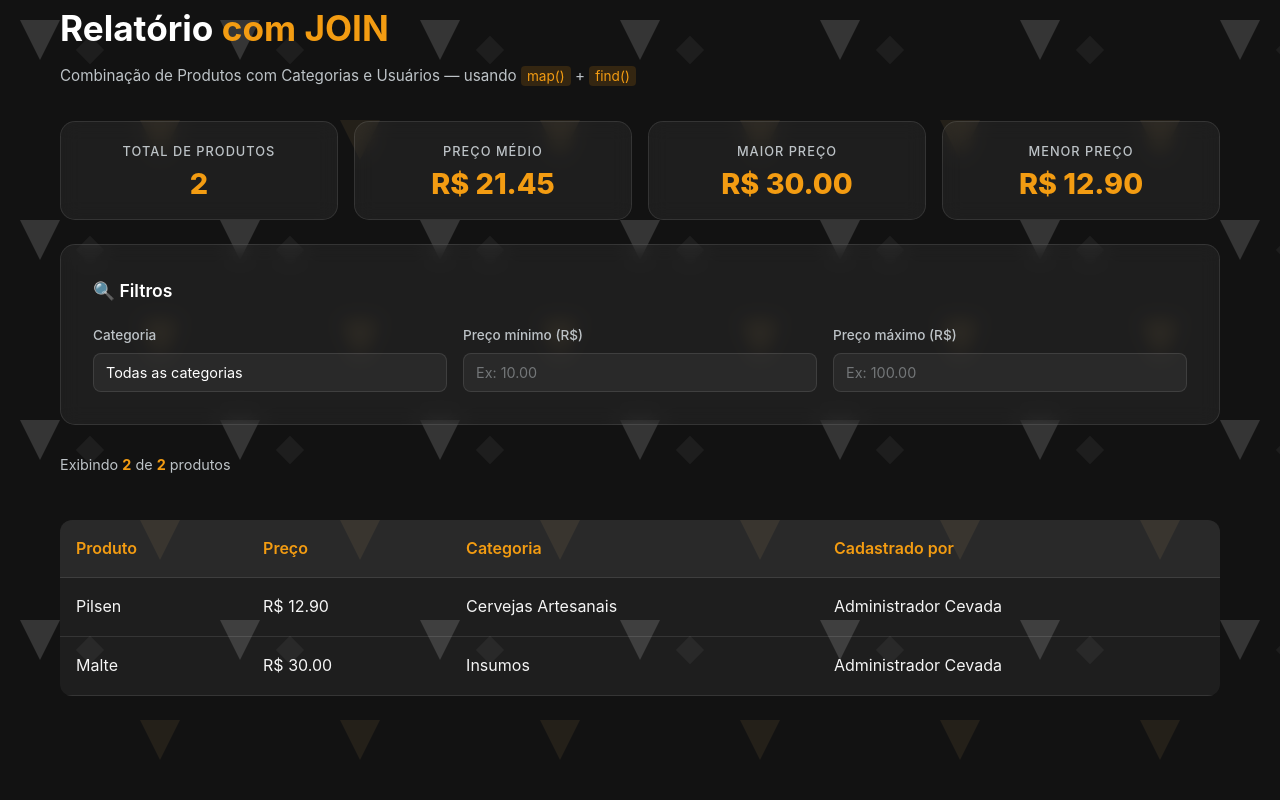
Test: tela do relatório mostra os produtos com o JOIN e filtra por categoria
Expected: the text "Pilsen" is shown, [60,578,247,636]
Expected: the text "Administrador Cevada" is shown 2 times, [818,578,1220,636]; [818,636,1220,695]
Select "Insumos" in the dropdown labelled "Categoria": (270, 372) [93,353,447,392]
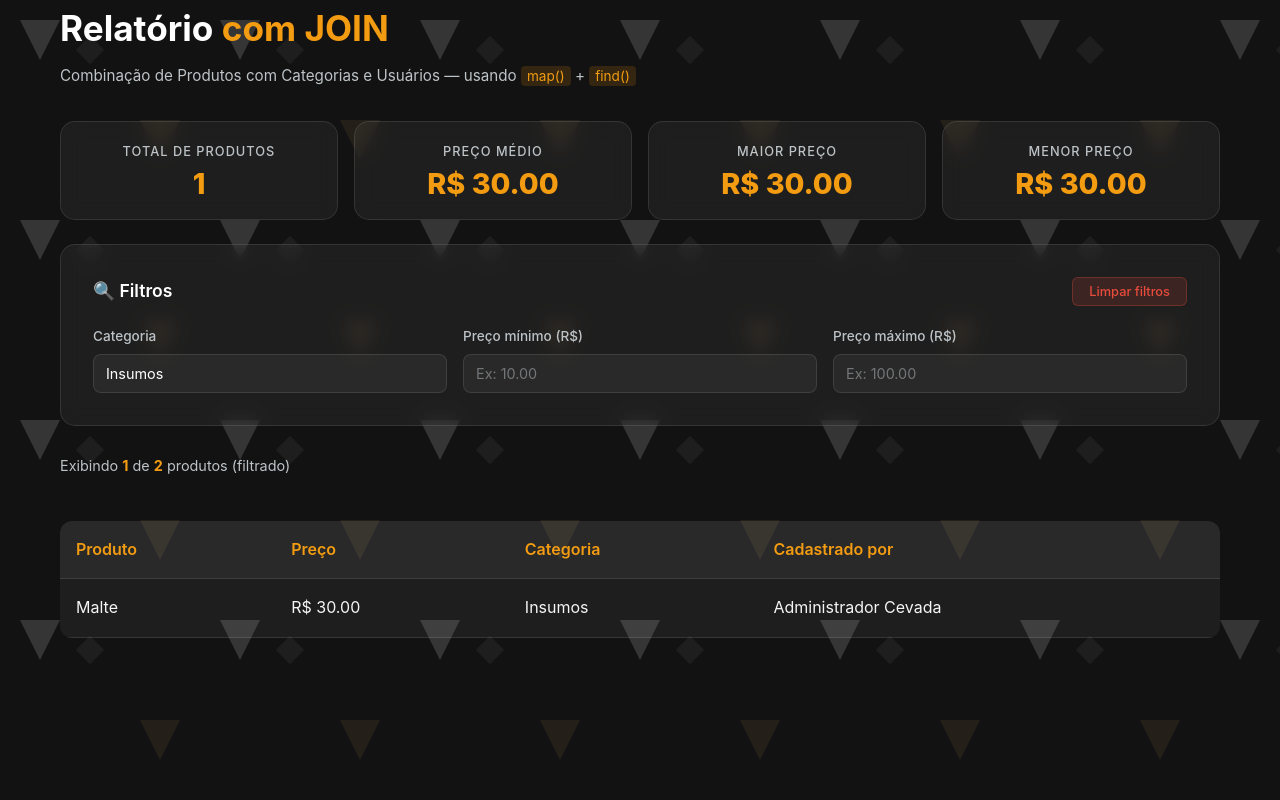
Expected: the text "Pilsen" is gone
Expected: the text "Malte" is shown, [60,579,275,637]
